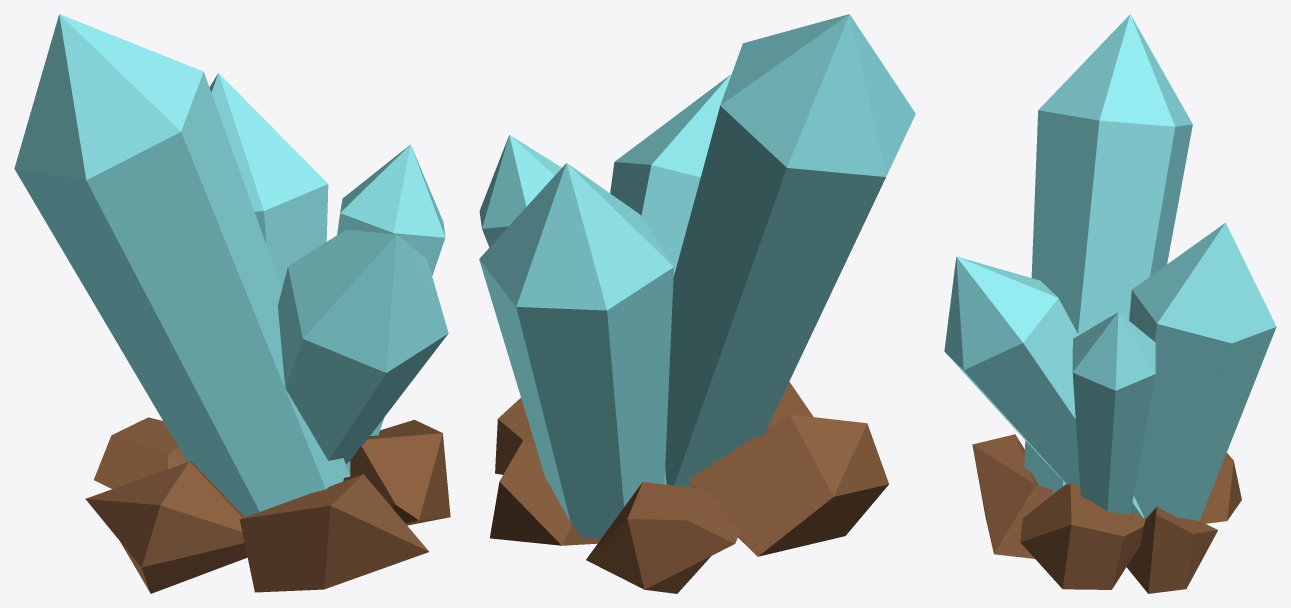
Rendered from gems.glb.
The picture shows the model from 3 angles, left to right: view 1: azimuth 30°, elevation 25°; view 2: azimuth 150°, elevation 25°; view 3: azimuth 270°, elevation 25°; orthographic projection. The views are drawn at different scales.
Visible parts, largest first — view 1: gems; view 2: gems; view 3: gems.
Boxes of the visible parts, left/top/right/bottom form: gems: left=14, top=14, right=450, bottom=593; gems: left=479, top=14, right=915, bottom=593; gems: left=944, top=14, right=1276, bottom=593.
Size of the model in its own units: 1.1 by 1.47 by 0.9587.
Materials: 1 (1 with a texture image).
